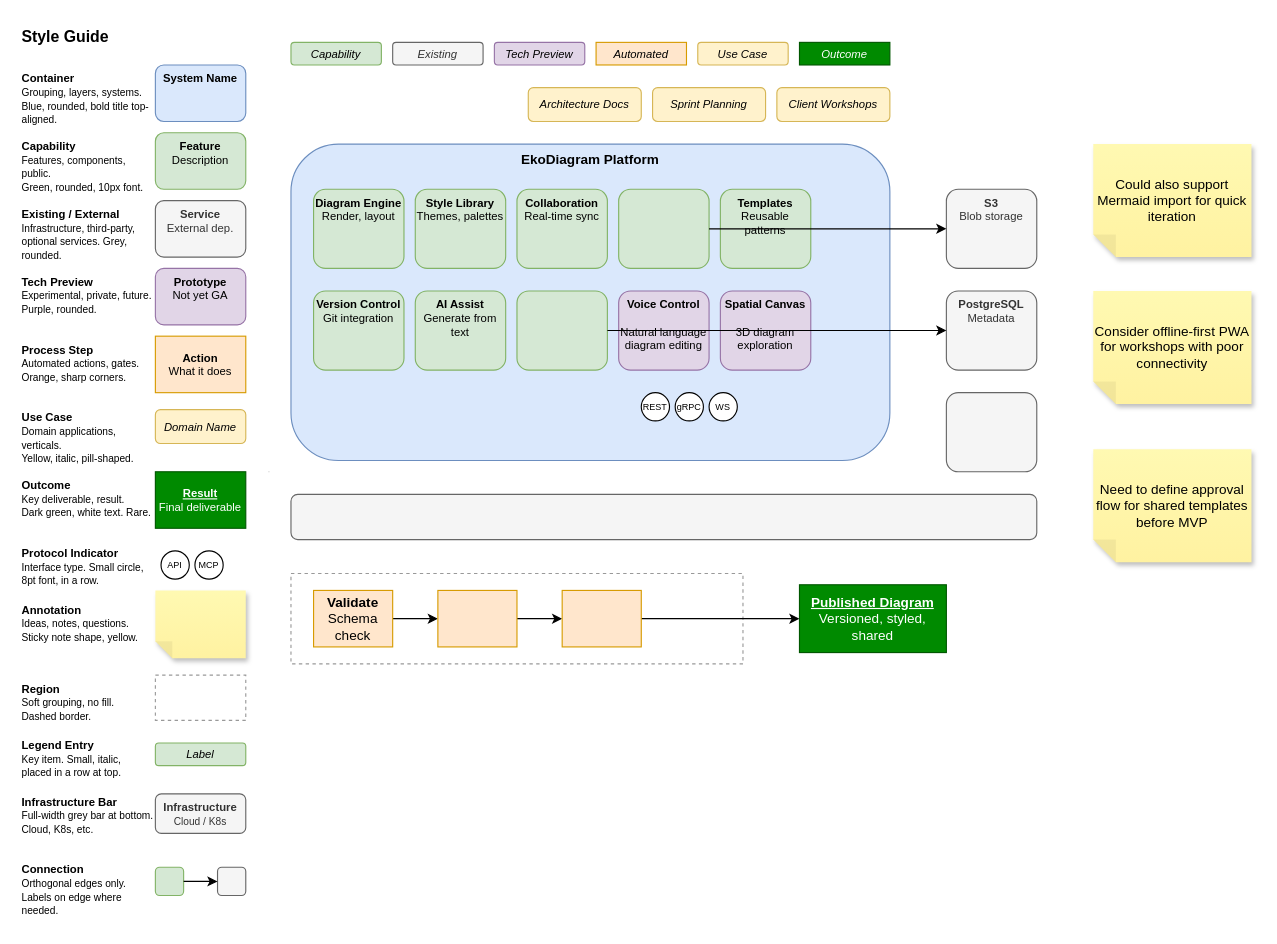
The diagram is 1277 pixels wide and 944 high, and some of its shapes have lost their labels. The centre of each missing label's shape, as x and y in pixels:
"A thought or open question" goes at pixel 201 625.
"Export PNG, SVG, PDF" goes at pixel 663 228.
"Infrastructure AWS / Kubernetes / CDN" goes at pixel 663 516.
"Permissions RBAC, sharing" goes at pixel 561 330.
"Publish Export & share" goes at pixel 601 618.
"Redis Session cache" goes at pixel 991 432.
"Transform Apply style" goes at pixel 477 618.
